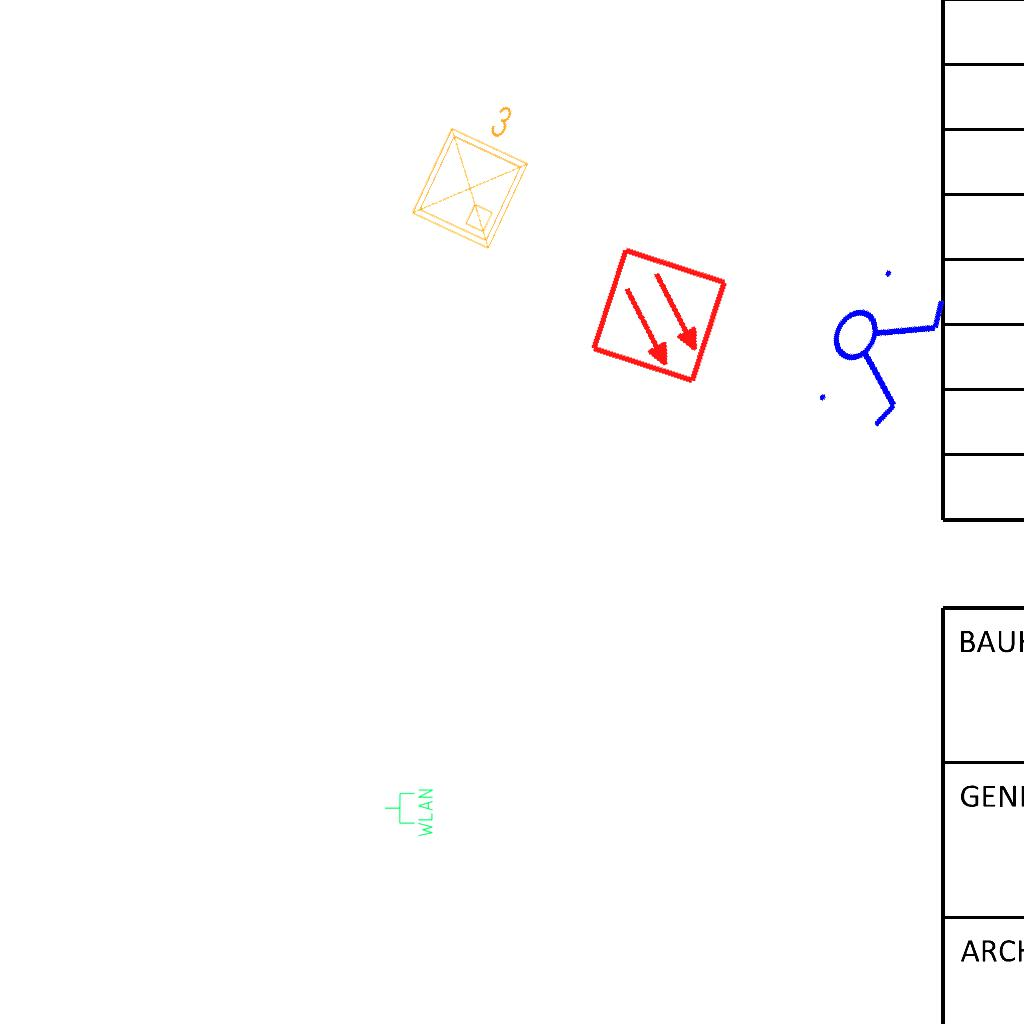Einbaudownlights_LED_Konferenzraeume: (398, 79, 556, 259)
RMO_Rauchmelder_optischer: (588, 244, 731, 387)
Serienschalter: (797, 249, 961, 443)
WLAN: (383, 787, 435, 839)
